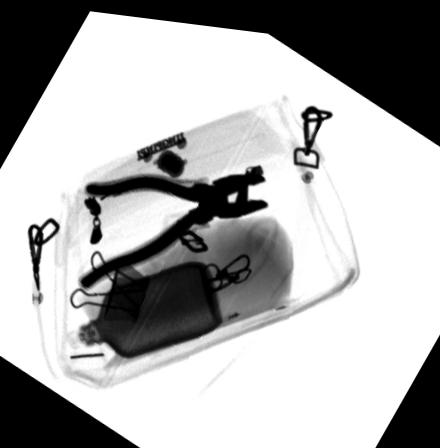Pliers: (76, 163, 270, 291)
